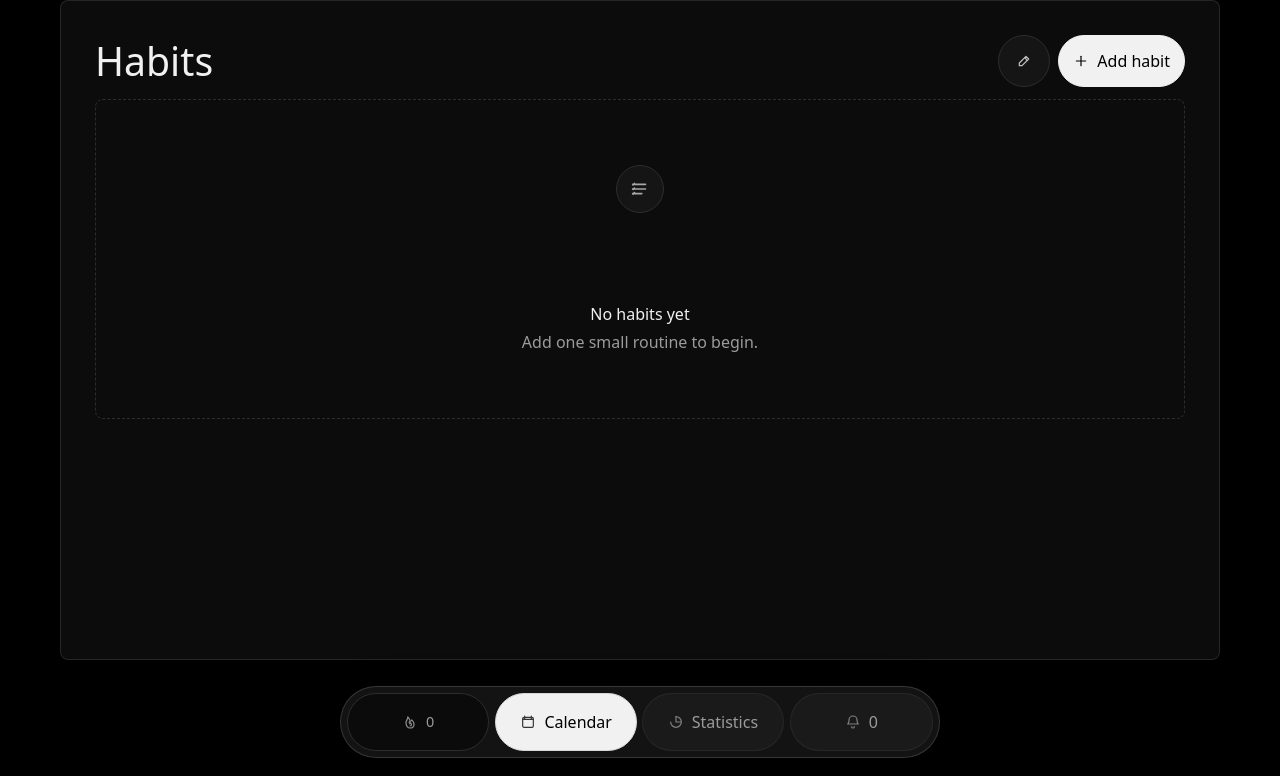
Habit Grid app › toggles the same check-in across week and month views
This screenshot has width=1280, height=776.
Click the button "Add habit".
click(1122, 61)  # box [1058,35,1185,87]
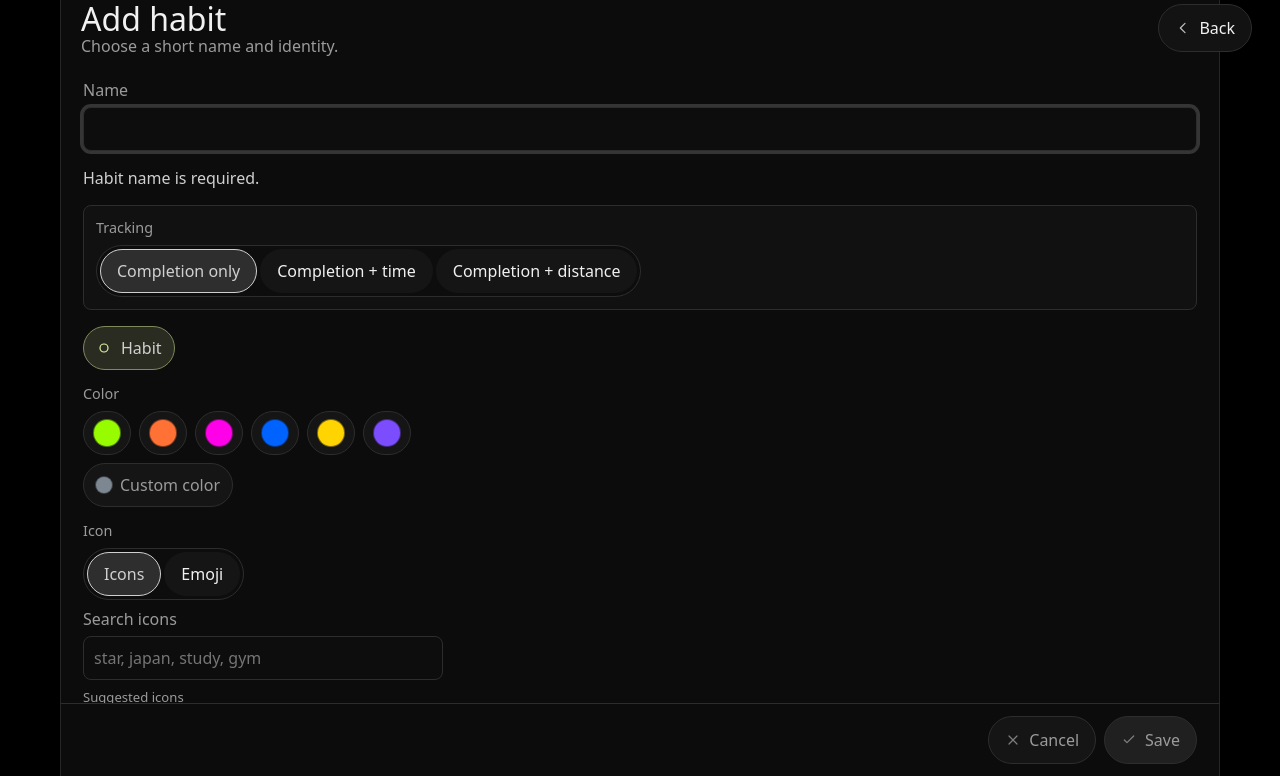
Type "Gym" into the field labelled "Name".
click(640, 129); type("Gym")  # box [83,107,1197,151]
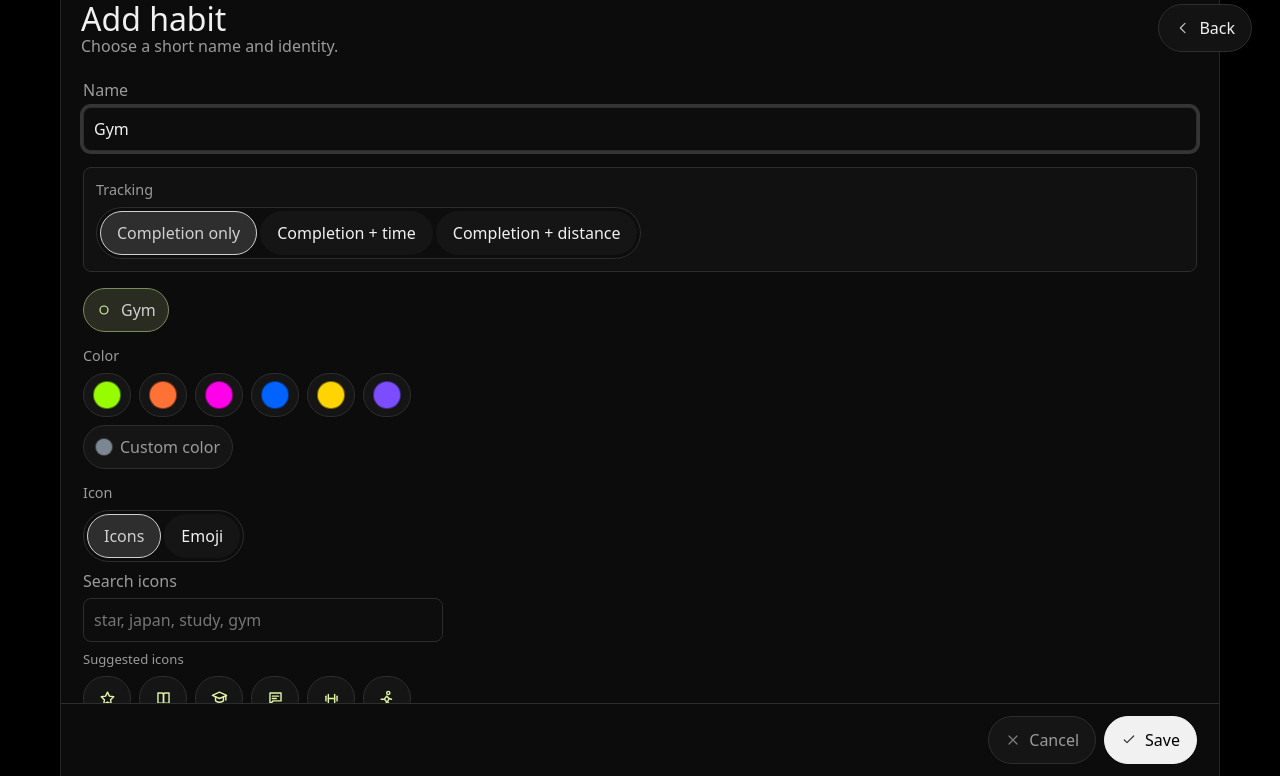
Click the button "Save".
click(1151, 740)  # box [1104,716,1197,764]
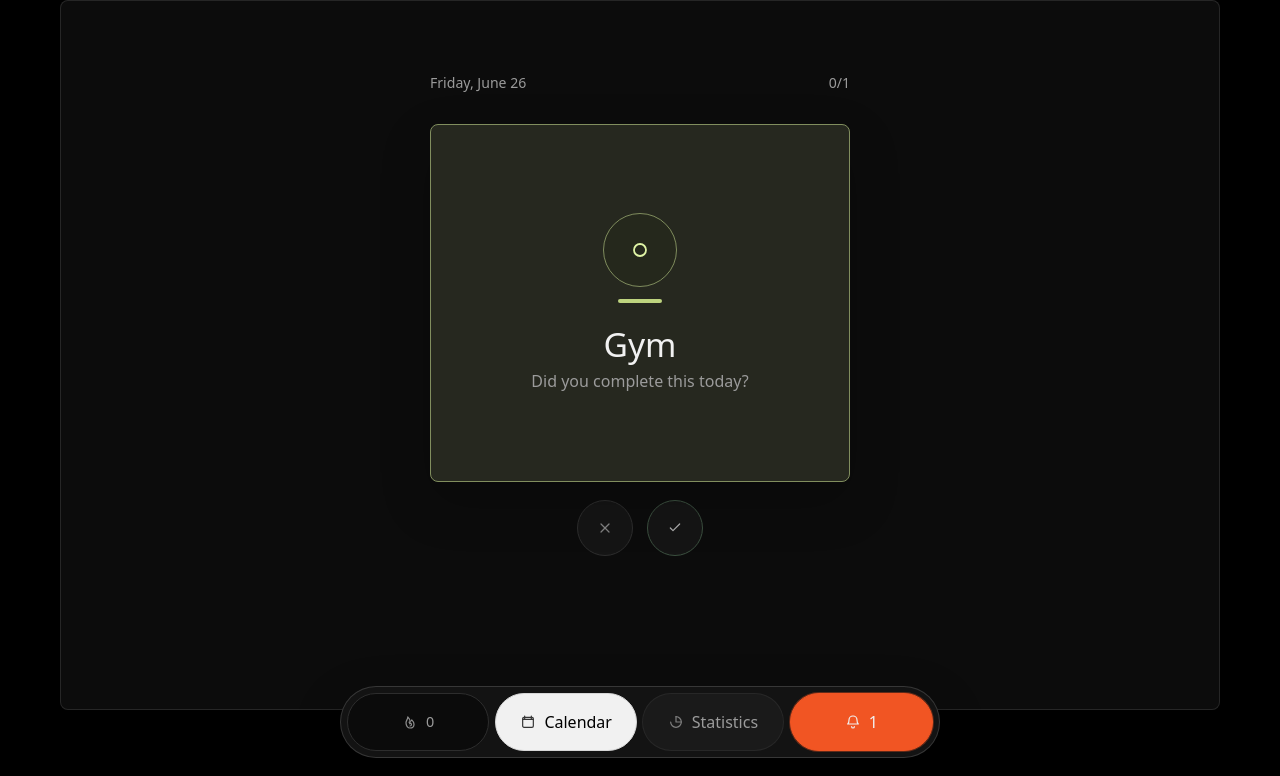
Click the button named "No".
click(605, 528)  # box [577,500,633,556]
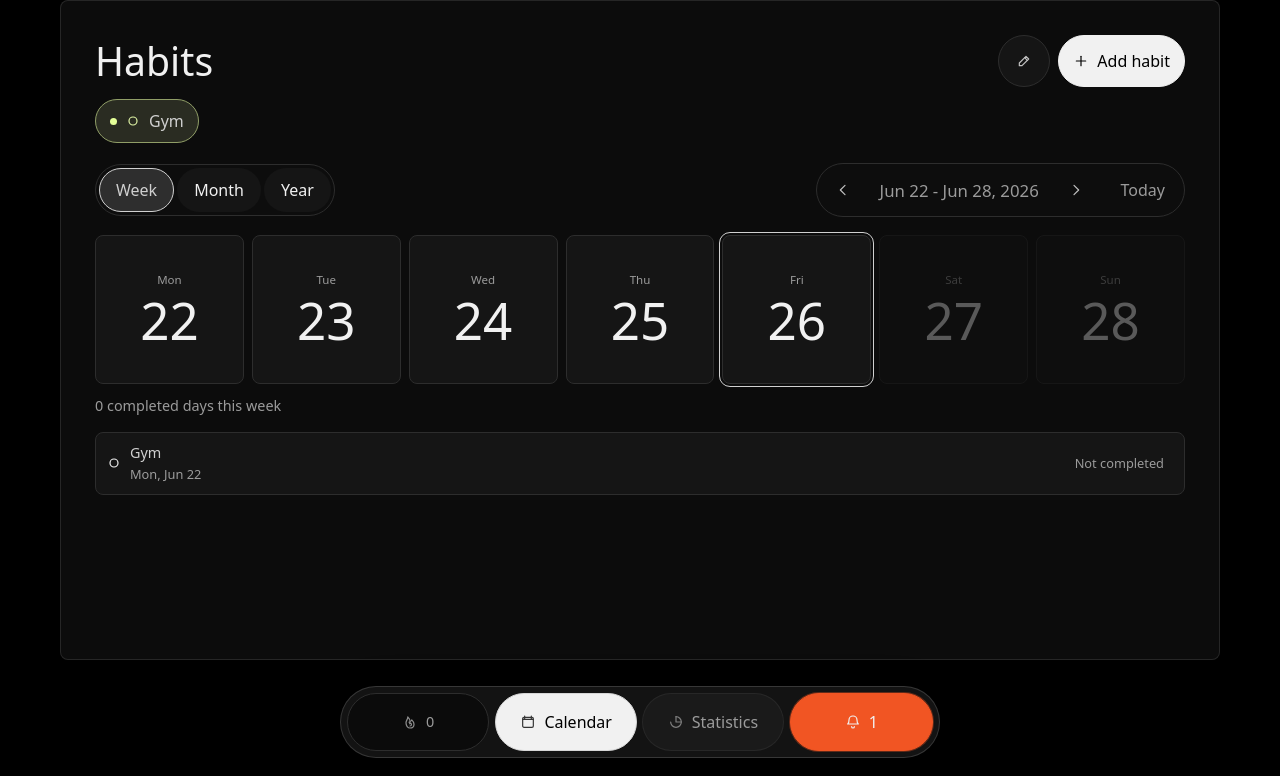
Click the button "Fri 26".
click(797, 309)  # box [722,235,871,384]
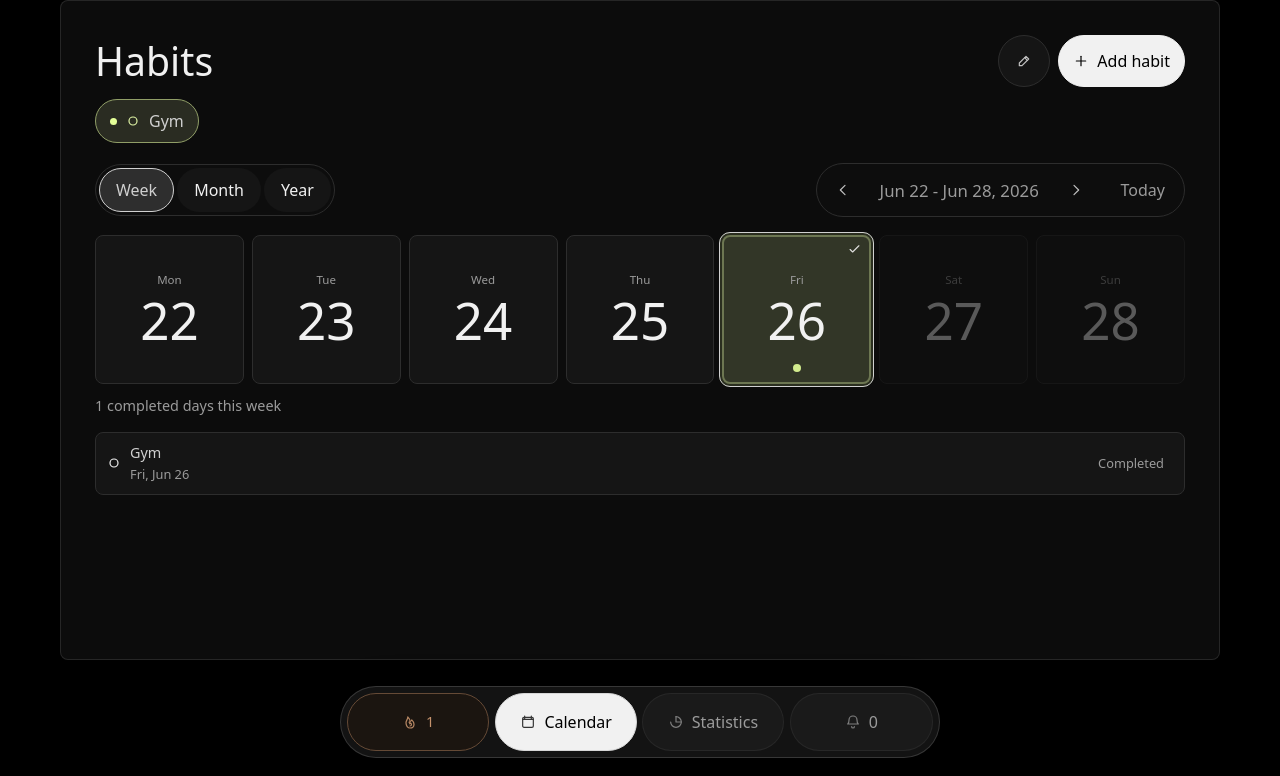
expect the element with class "completion-dot" is shown: met, box [793,364,801,372]
Click the button "Month".
click(219, 190)  # box [177,168,261,212]
(page scrolled)
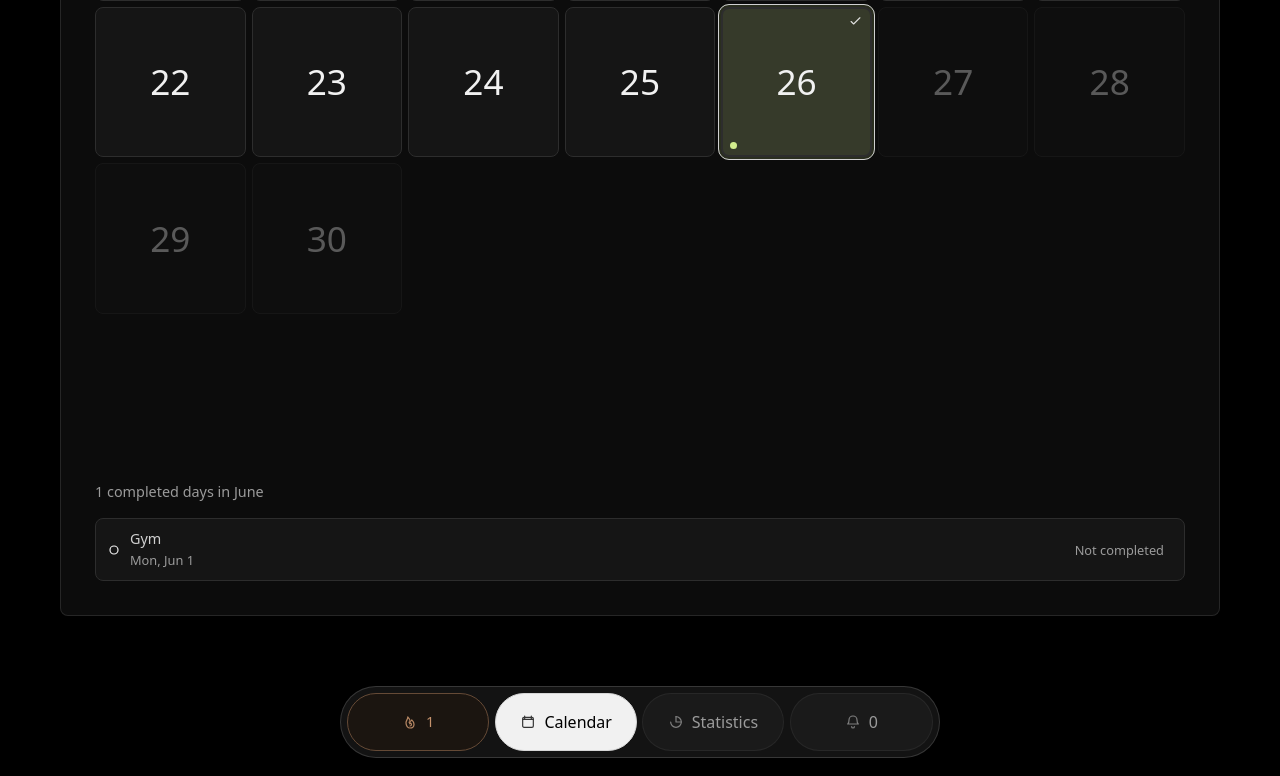
expect the text "1 completed days in June" is shown: met, box [95,482,462,502]
